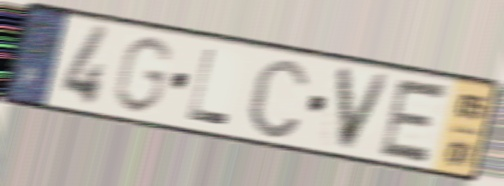4: (56, 22, 112, 112)
C: (244, 55, 312, 142)
E: (375, 75, 454, 167)
G: (109, 34, 176, 117)
L: (184, 45, 233, 129)
V: (333, 63, 395, 155)
